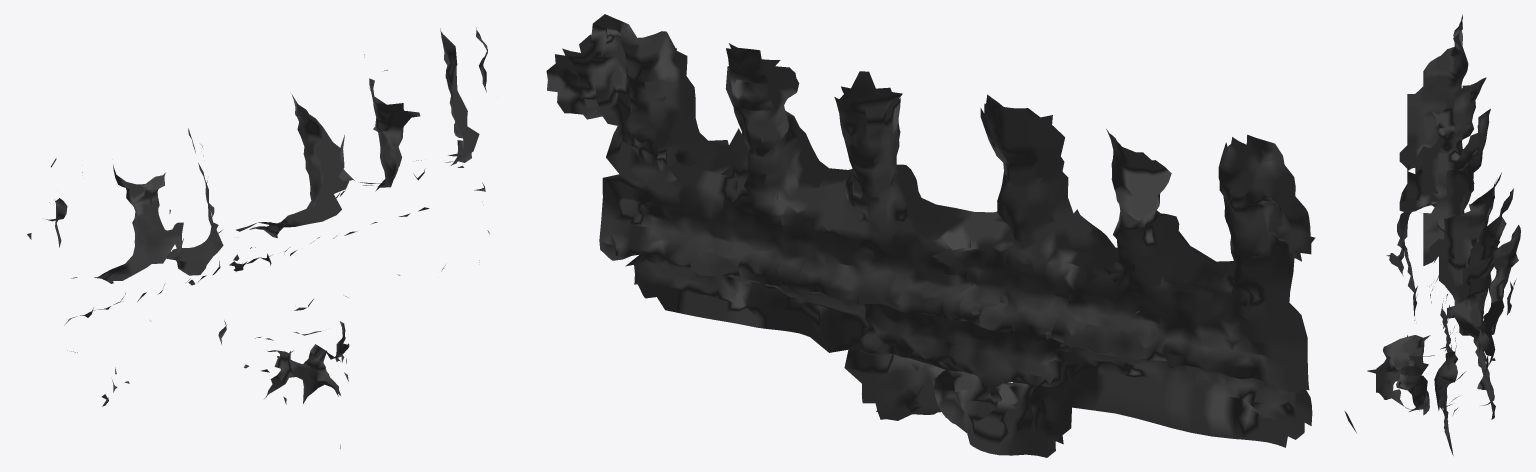
The model's file is path_to_uv_mapped_mesh.glb.
3 renders of one model, left to right at view 1: azimuth 30°, elevation 25°; view 2: azimuth 150°, elevation 25°; view 3: azimuth 270°, elevation 25°, orthographic. The views are drawn at different scales.
Visible parts, largest first — view 1: path_to_uv_mapped_mesh.obj; view 2: path_to_uv_mapped_mesh.obj; view 3: path_to_uv_mapped_mesh.obj.
Part boxes in pixels (box(x1,y1,x2,y2)): path_to_uv_mapped_mesh.obj: box(27, 27, 489, 448); path_to_uv_mapped_mesh.obj: box(546, 14, 1315, 457); path_to_uv_mapped_mesh.obj: box(1344, 14, 1520, 455).
Bounding box in the file's own units: 4.78 × 2.8 × 1.43.
Materials: 1 (1 with a texture image).
